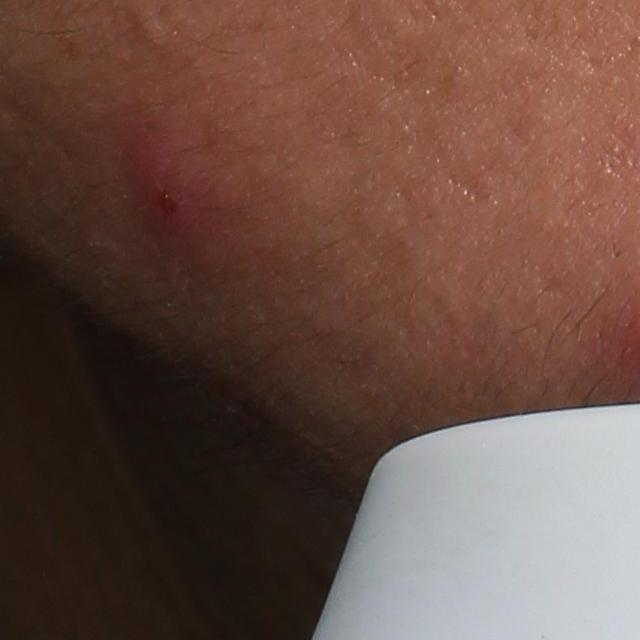comedo: (130, 1, 173, 51)
